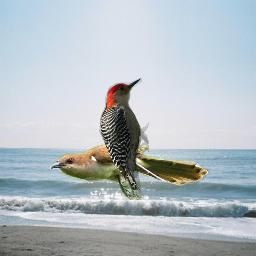Cuckoo: (50, 144, 209, 200)
Woodpecker: (99, 78, 149, 190)
